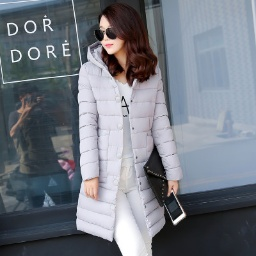face: (83, 5, 162, 90)
